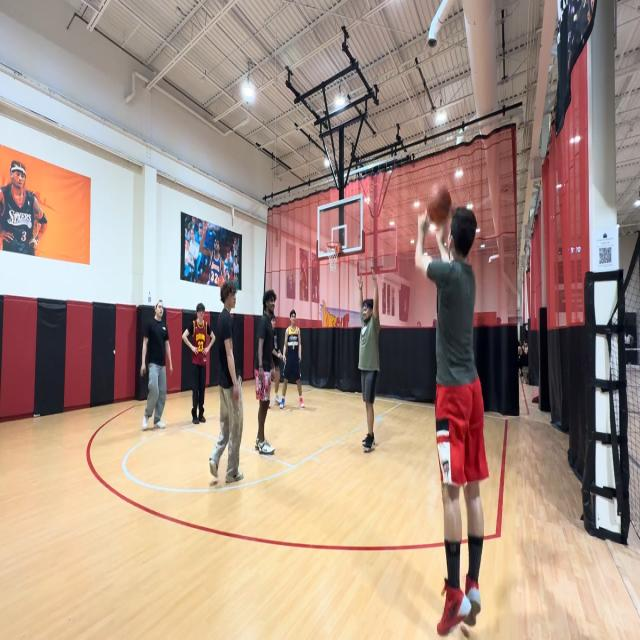Basketball: (428, 180, 453, 223)
Basketball Rim: (326, 240, 341, 272)
